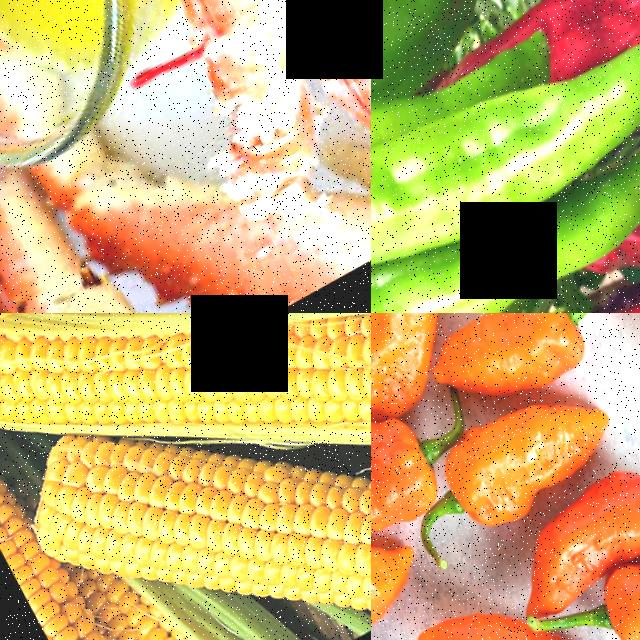chilli: (371, 12, 640, 289), (371, 138, 640, 313), (410, 367, 633, 558), (473, 451, 640, 634), (408, 313, 600, 442), (371, 0, 526, 144), (371, 398, 450, 581)
corn: (0, 374, 281, 640), (190, 399, 371, 640), (0, 313, 193, 515), (0, 313, 313, 407), (242, 313, 371, 530), (0, 452, 123, 640), (71, 559, 235, 640)
crab: (0, 24, 371, 313)
